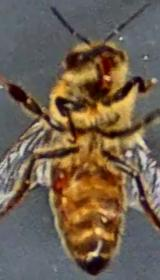varroa_mite: (45, 154, 78, 196)
